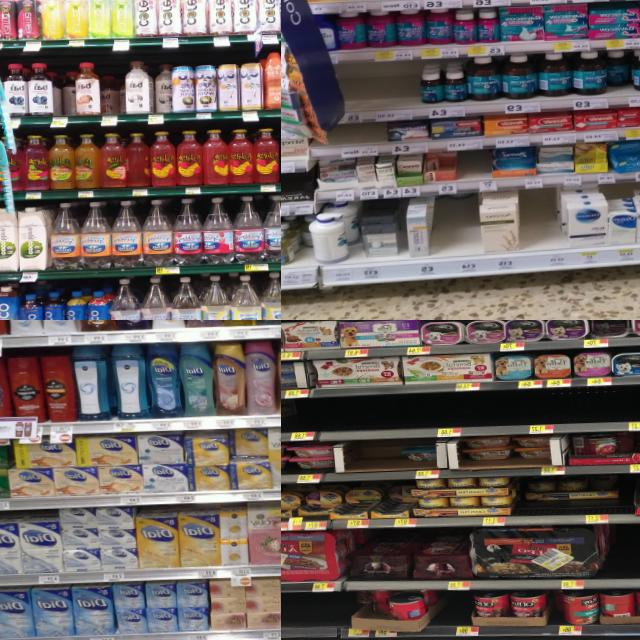100- O.O.S: (318, 392, 461, 441), (462, 389, 554, 436), (554, 385, 640, 433), (436, 198, 480, 274), (368, 61, 421, 120), (520, 190, 558, 267), (281, 593, 342, 637), (617, 521, 640, 588), (338, 123, 383, 157), (284, 399, 316, 441), (343, 63, 365, 122), (458, 150, 488, 192), (441, 594, 471, 636)
